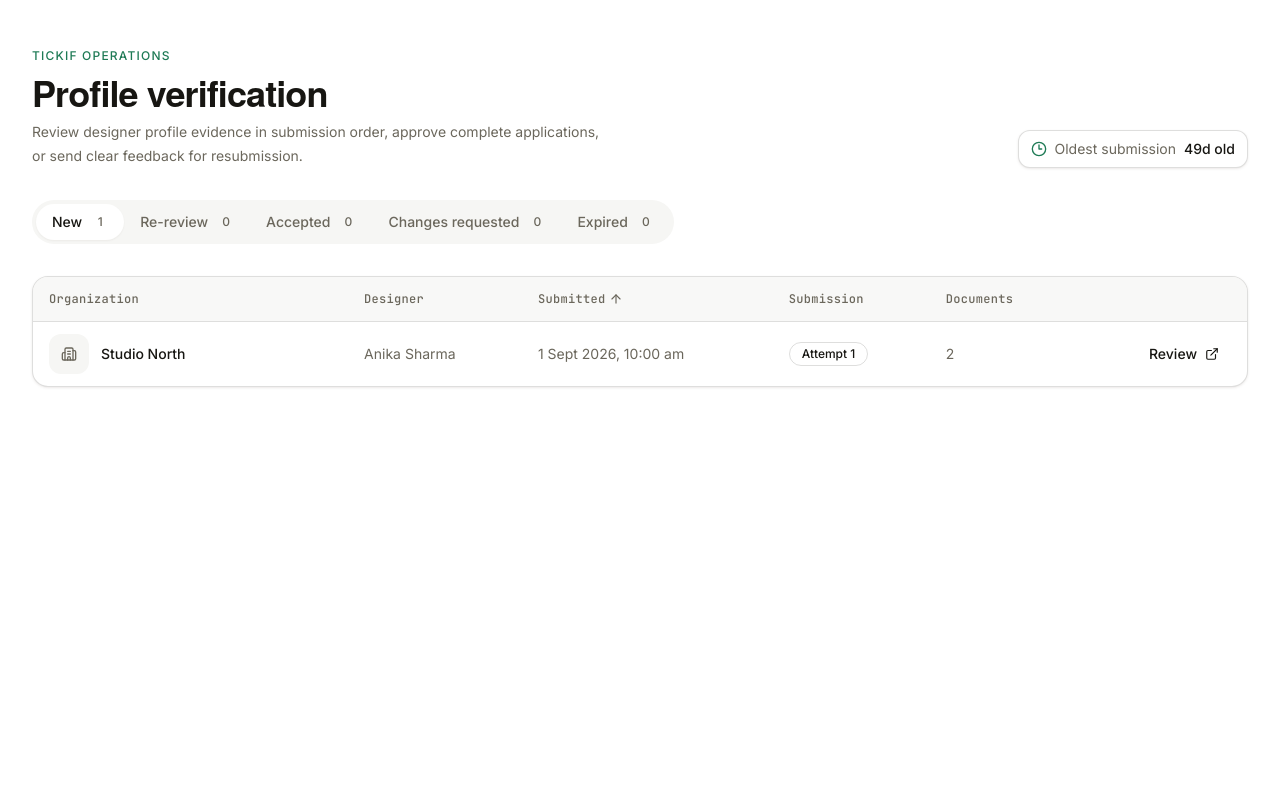
Test: AdminVerificationQueue › keeps approval disabled when live eligibility is no longer met
What coordinates should you click on to do the following:
click the button with aria-label "open verification for studio north"
I would click on:
 (1184, 354)
Its box is [1137, 336, 1231, 372].
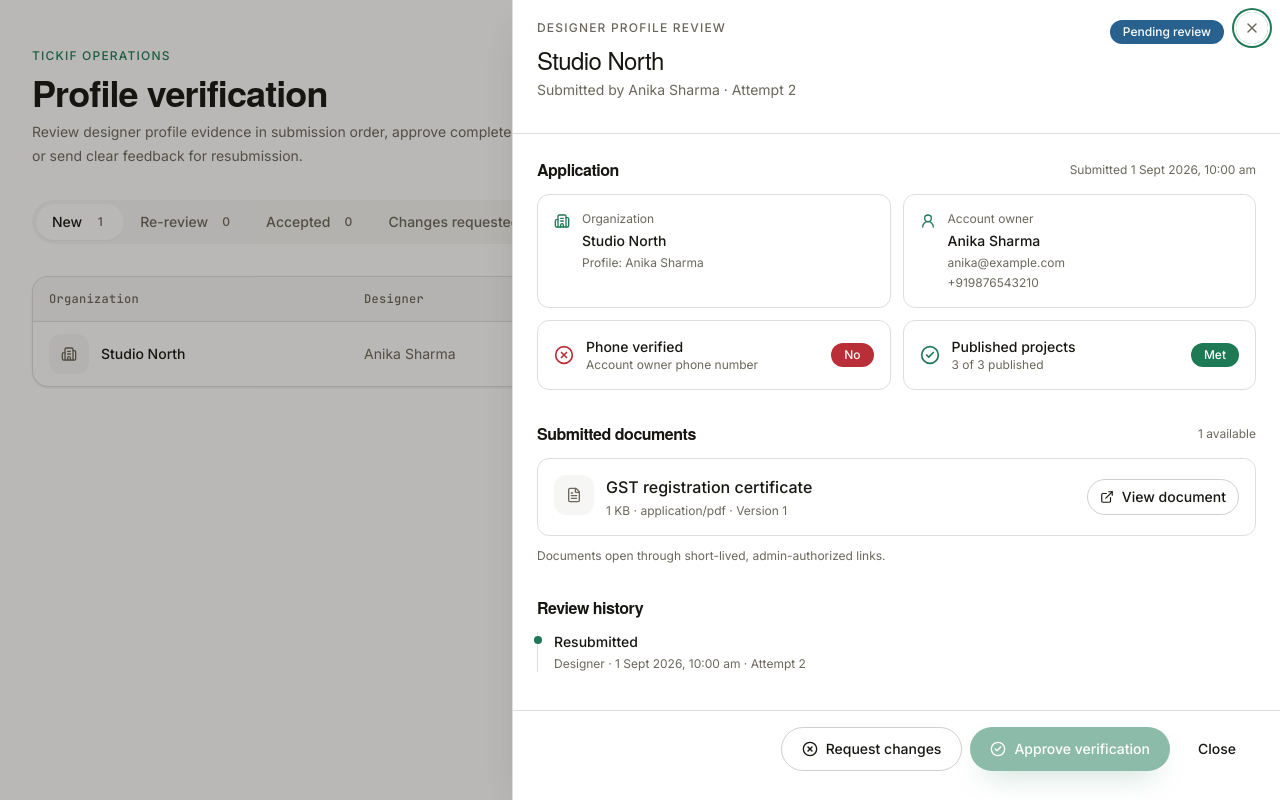
Expected: the button "Approve verification" is disabled, [970, 727, 1170, 771]
Expected: the button "Request changes" is enabled, [781, 727, 962, 771]
